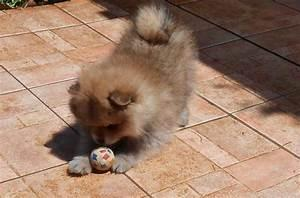dog: (66, 0, 200, 175)
